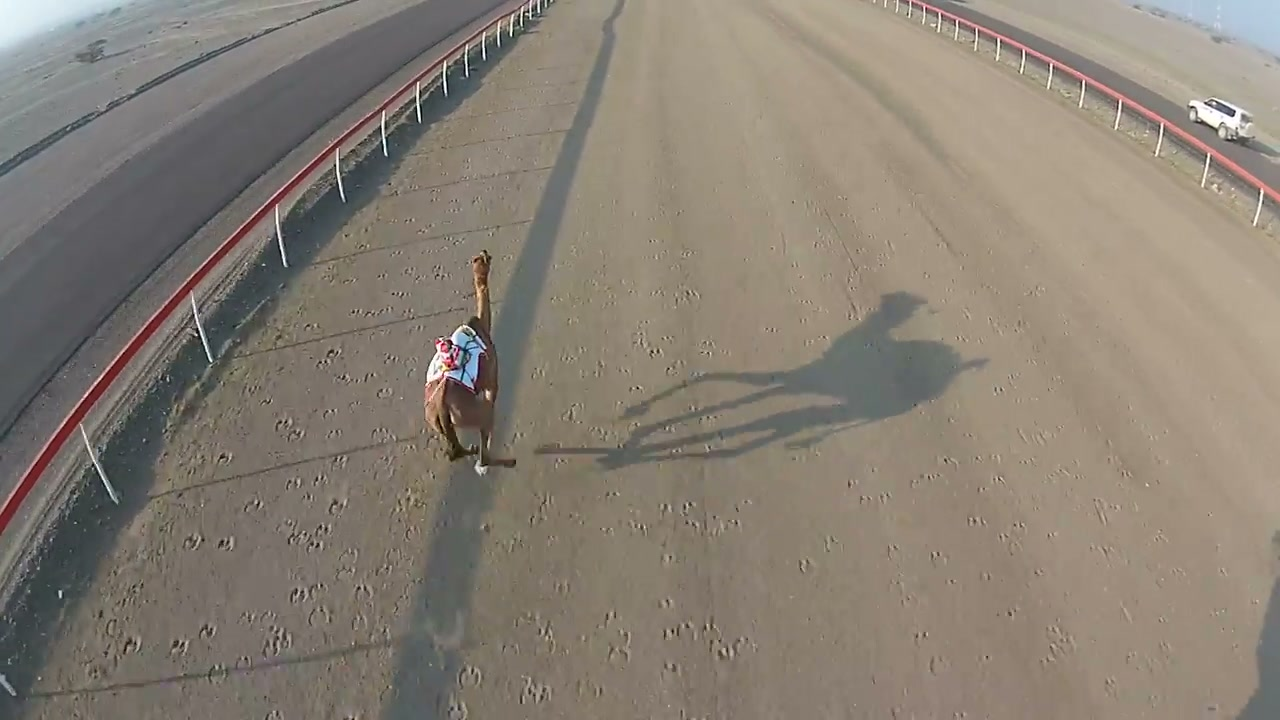animal_footprint: (108, 220, 439, 677), (435, 397, 762, 719)
